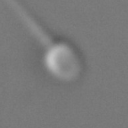normal: (7, 1, 51, 45)
